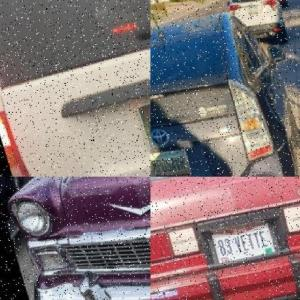Plate: (208, 222, 271, 264), (150, 149, 188, 177)
